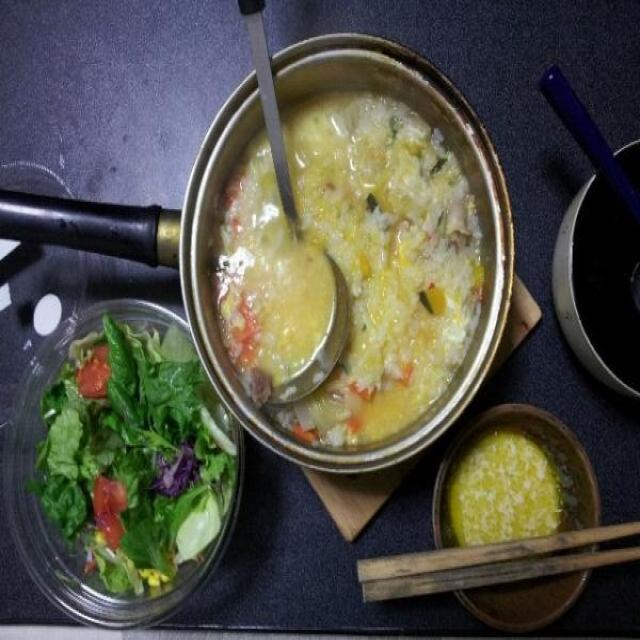Green Salad: (39, 326, 224, 576)
